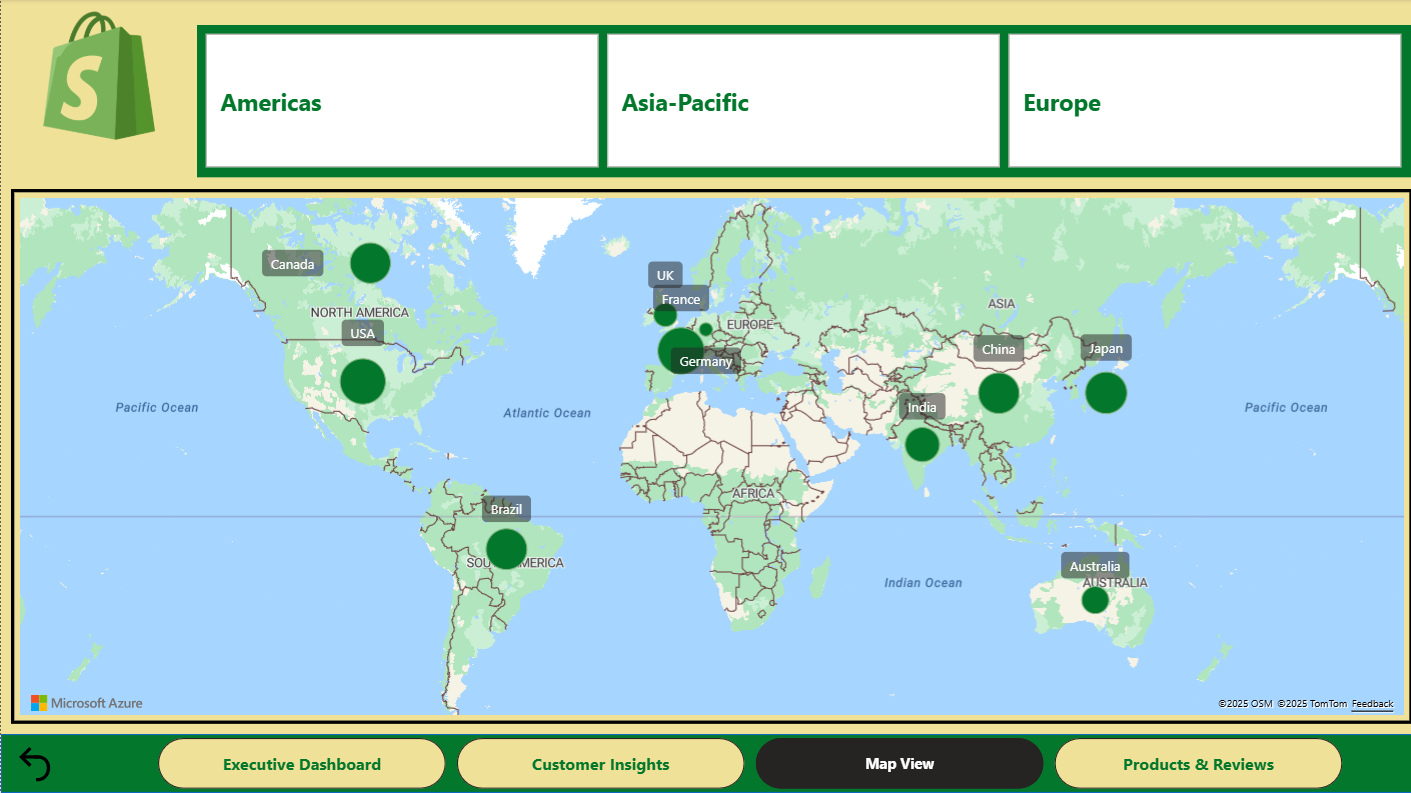

The dashboard page shown, as its layout file describes it:
{"tool":"powerbi","page":{"name":"Map View","canvas":[1280,720],"ordinal":2},"visuals":[{"type":"azureMap","fields":{"Category":["Customers Table.COUNTRY"],"Size":["Measures Table.Net Revenue"]},"box":[9.1,172.3,1271.3,485.1],"z":0},{"type":"advancedSlicerVisual","fields":{"Values":["Region Lookup.Region Hierarchy.Region"]},"box":[177.7,23.6,1102.7,137.8],"z":3000},{"type":"image","box":[0,4.5,177.7,129.7],"z":3001},{"type":"shape","box":[0,666.5,1280.4,53.5],"z":3002},{"type":"actionButton","box":[10,672.8,47.2,41.7],"z":3003},{"type":"bookmarkNavigator","box":[142.4,670.1,1074.6,46.2],"z":3004}]}

Visuals, with their boxes in screenshot pixels (x1, y1, x2, y2), scaled from the page's 1280x720 canvas onto the 1411x793 screenshot:
azureMap - Customers Table.COUNTRY x Measures Table.Net Revenue: left=10, top=190, right=1410, bottom=724
advancedSlicerVisual - Region Lookup.Region Hierarchy.Region: left=196, top=26, right=1410, bottom=178
image: left=0, top=5, right=196, bottom=148
shape: left=0, top=734, right=1410, bottom=792
actionButton: left=11, top=741, right=63, bottom=787
bookmarkNavigator: left=157, top=738, right=1342, bottom=789
